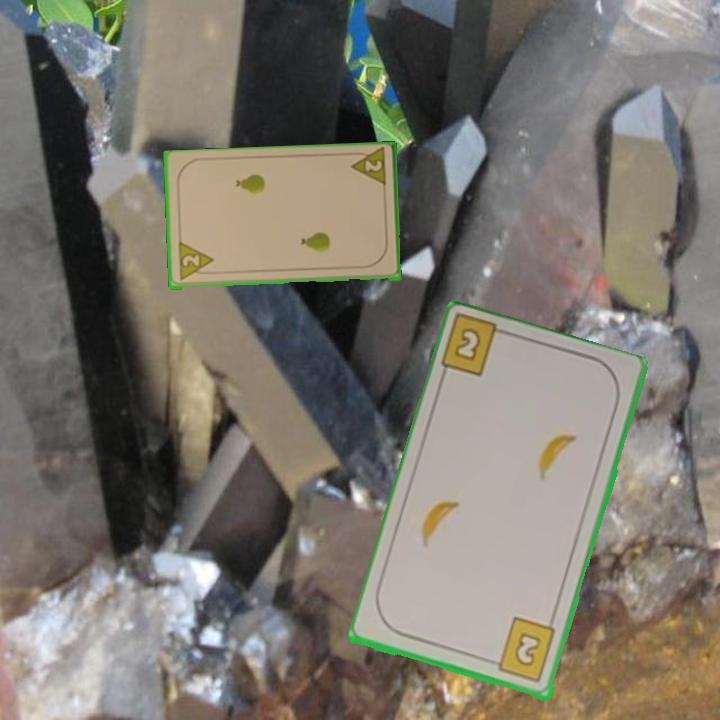2b: (486, 615, 559, 686), (438, 314, 515, 380)
2p: (347, 146, 389, 191), (175, 240, 216, 284)
